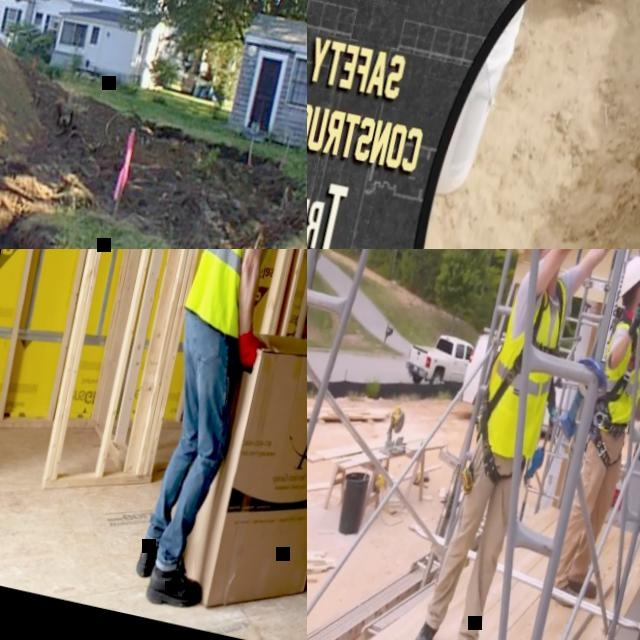Hardhat: (620, 251, 640, 299)
Person: (407, 249, 640, 640), (117, 249, 307, 612), (549, 249, 640, 616)
Safety Vest: (477, 267, 572, 462), (179, 249, 295, 337), (590, 301, 640, 434)
vehicle: (454, 326, 576, 442), (402, 326, 475, 393)
